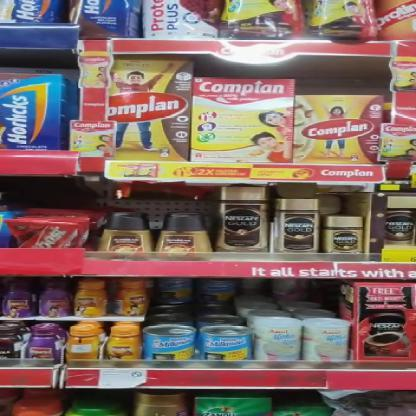Complan Kesar Badam: (190, 80, 294, 166), (292, 94, 383, 164)
Complan Royal Chocolate: (112, 59, 196, 161)
